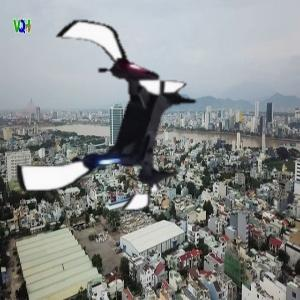drone: (7, 15, 209, 217)
